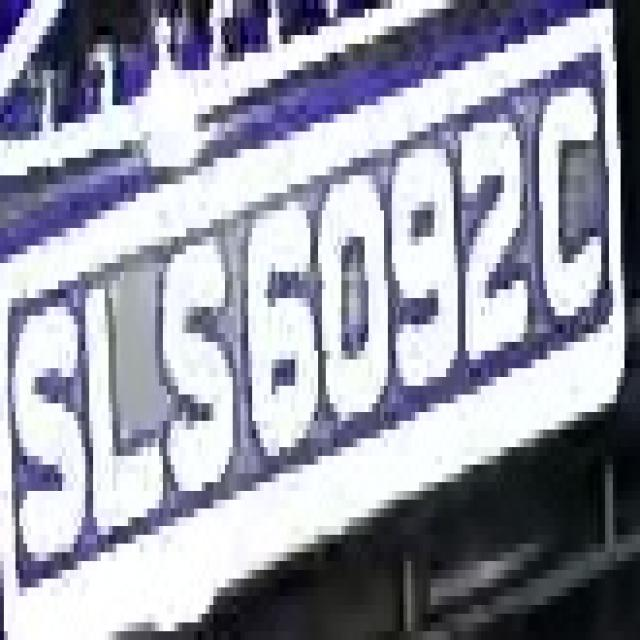0: (310, 158, 388, 438)
2: (450, 96, 527, 386)
6: (237, 175, 326, 456)
9: (380, 149, 466, 430)
C: (531, 53, 613, 368)
L: (78, 254, 170, 526)
S: (140, 219, 244, 491), (12, 254, 89, 596)
